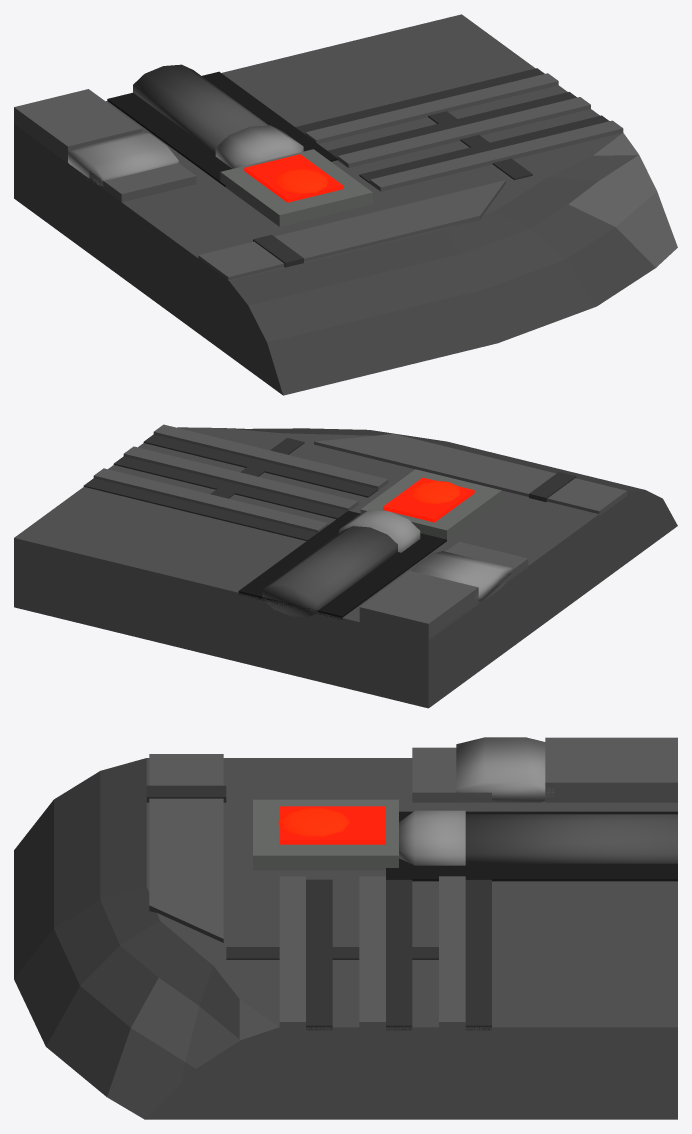
Rendered from newshb-158.glb.
3 views of the same model, one above another, from view 1: azimuth 30°, elevation 25°; view 2: azimuth 150°, elevation 25°; view 3: azimuth 270°, elevation 25° (orthographic). The views are drawn at different scales.
Parts seen in each view (by area): view 1: newshb-158; view 2: newshb-158; view 3: newshb-158.
Part boxes in pixels (<box>): newshb-158: <box>14,14,677,395</box>; newshb-158: <box>14,424,677,708</box>; newshb-158: <box>14,737,677,1119</box>.
Bounding box in the file's own units: 2 × 0.42 × 2.08.
